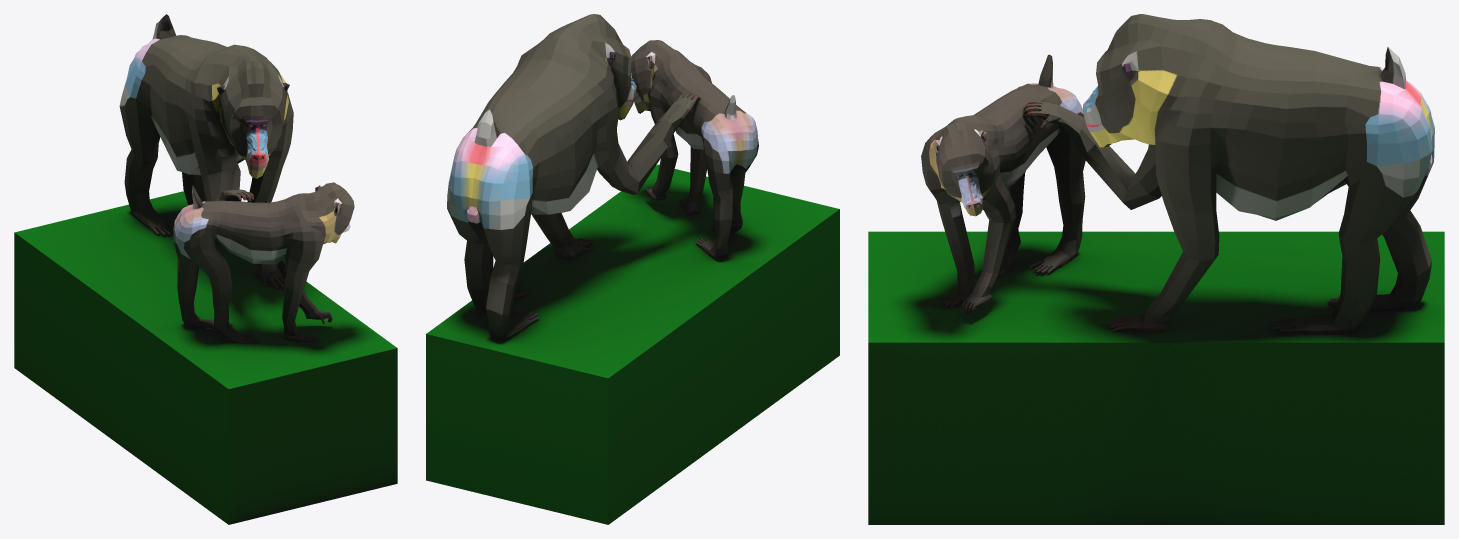
The model's file is mandrills.glb.
The picture shows the model from 3 angles, left to right: view 1: azimuth 30°, elevation 25°; view 2: azimuth 150°, elevation 25°; view 3: azimuth 270°, elevation 25°; orthographic projection. The views are drawn at different scales.
Bounding box in the file's own units: 0.6987 × 1.32 × 1.43.
1 material, 1 textured.
